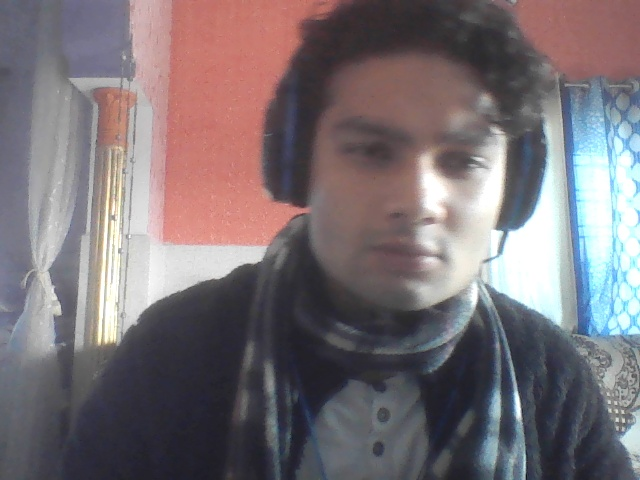real: (274, 0, 538, 374)
